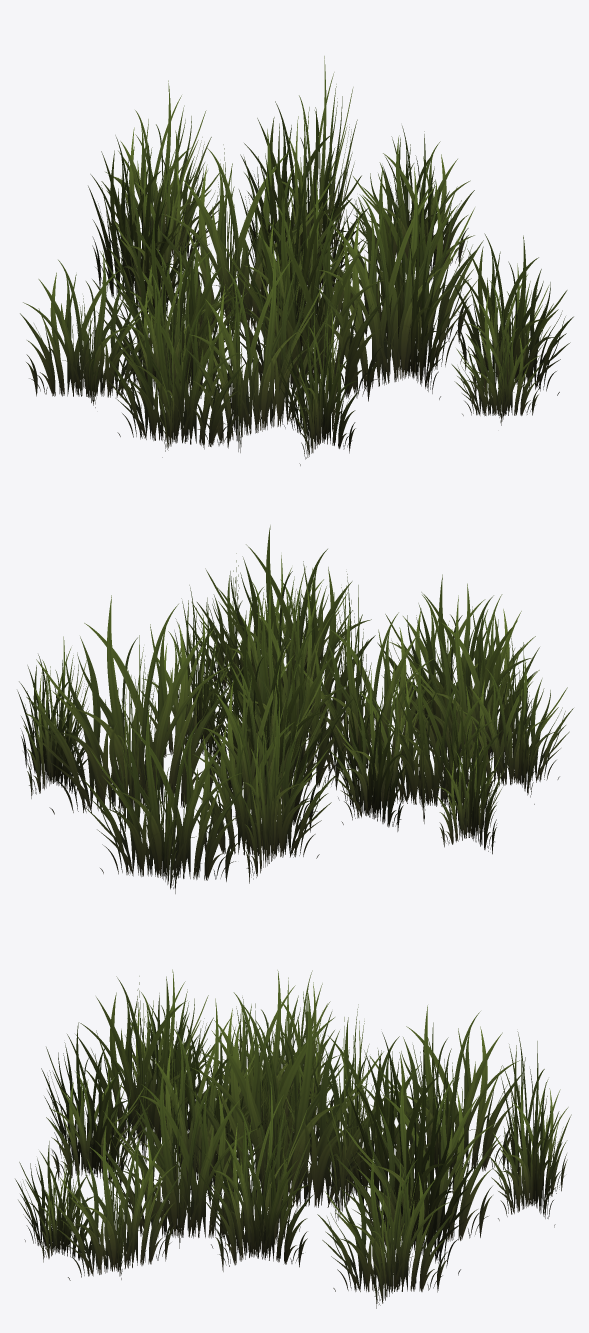
The model's file is Grass_04.fbx.
The picture shows the model from 3 angles, top to bottom: view 1: azimuth 30°, elevation 25°; view 2: azimuth 150°, elevation 25°; view 3: azimuth 270°, elevation 25°; orthographic projection. The views are drawn at different scales.
Parts seen in each view (by area): view 1: Grass_04; view 2: Grass_04; view 3: Grass_04.
Part boxes in pixels (box(x1,y1,x2,y2)): Grass_04: box(20, 56, 573, 465); Grass_04: box(17, 525, 573, 893); Grass_04: box(15, 969, 571, 1308).
Bounding box in the file's own units: 3.09 × 3.19 × 1.4.
